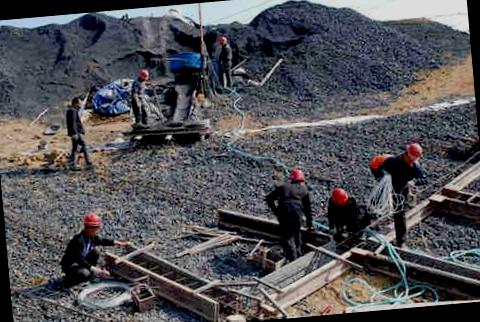no_helmet: (67, 96, 87, 115)
